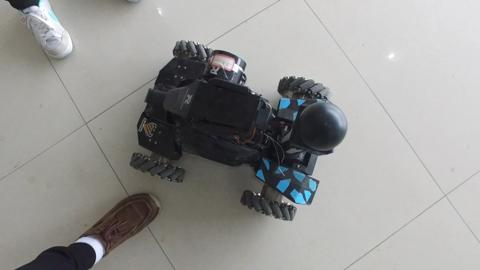chariot: (117, 49, 342, 220)
